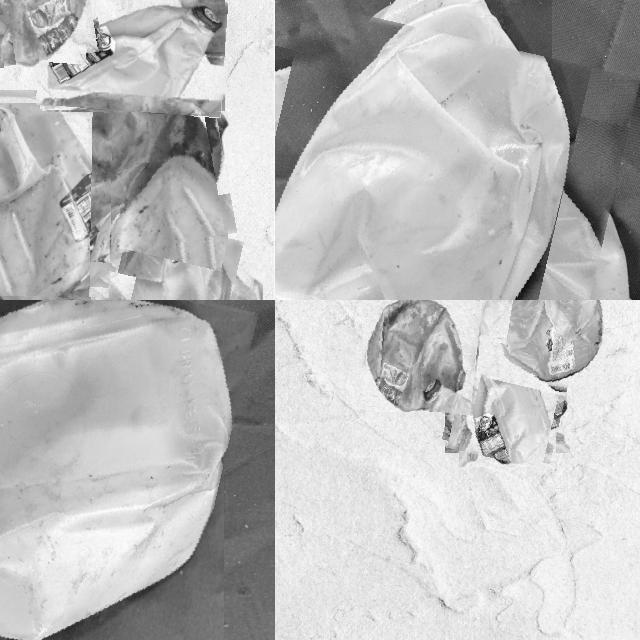milk-jug: (275, 10, 620, 300), (0, 300, 238, 640), (48, 76, 230, 256), (36, 0, 226, 115), (0, 108, 110, 296), (446, 342, 568, 466), (84, 219, 253, 300), (360, 300, 480, 412), (477, 300, 608, 387), (0, 0, 96, 69)
